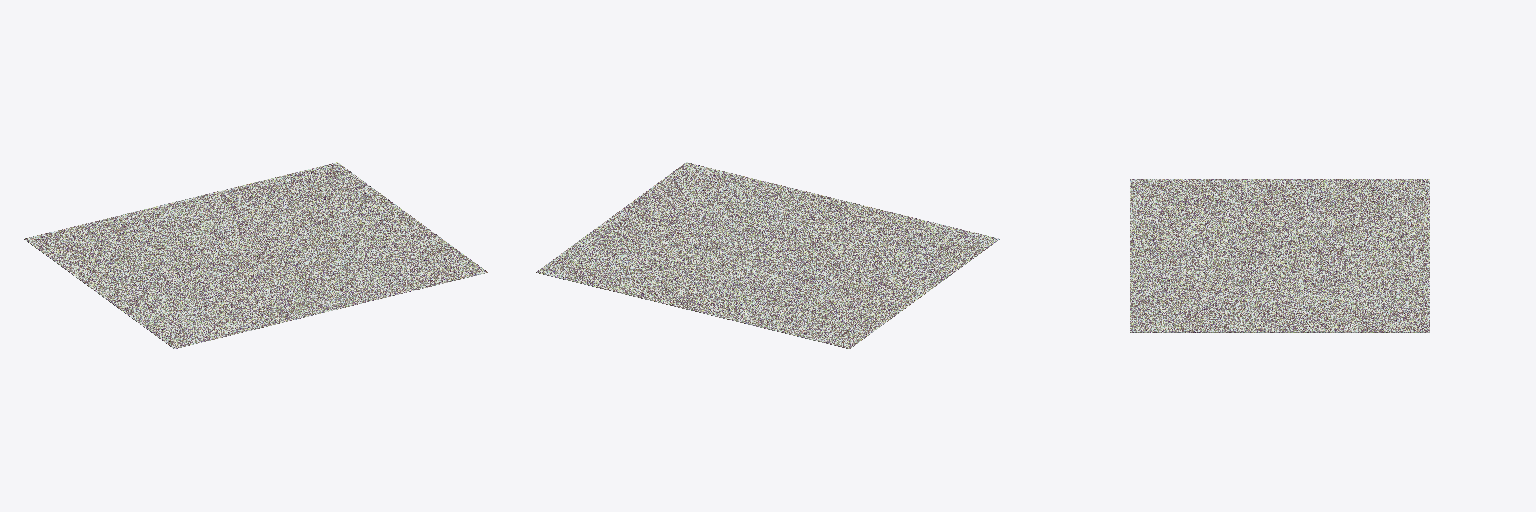
3 views of the same model, side by side, from view 1: azimuth 30°, elevation 25°; view 2: azimuth 150°, elevation 25°; view 3: azimuth 270°, elevation 25° (orthographic).
Parts seen in each view (by area): view 1: Part1; view 2: Part1; view 3: Part1.
Boxes of the visible parts, x1=… form: Part1: x1=24, y1=162, x2=487, y2=348; Part1: x1=536, y1=162, x2=999, y2=348; Part1: x1=1130, y1=179, x2=1429, y2=332.
Bounding box in the file's own units: 661 × 2 × 548.
Materials: 3 (2 with a texture image).